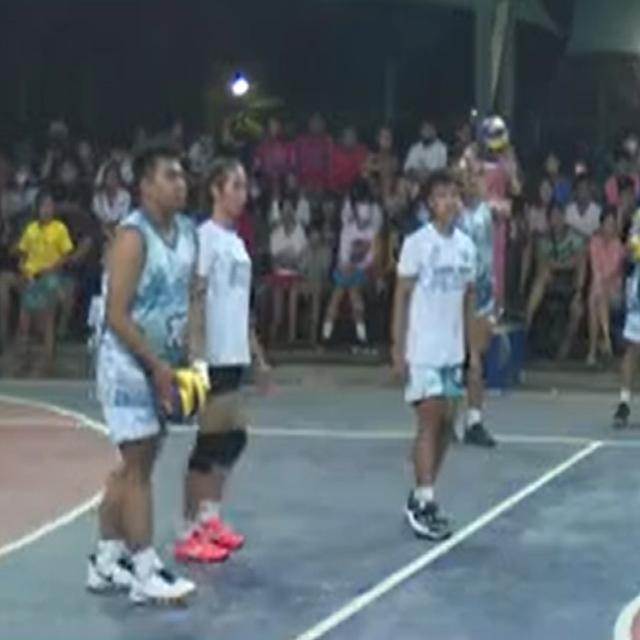volleyball: (157, 368, 205, 422), (476, 115, 509, 155)
